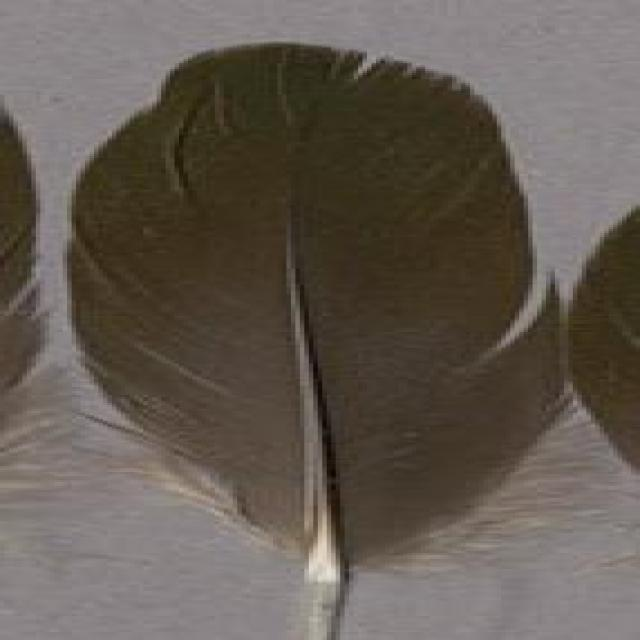feather: (67, 43, 556, 640)
